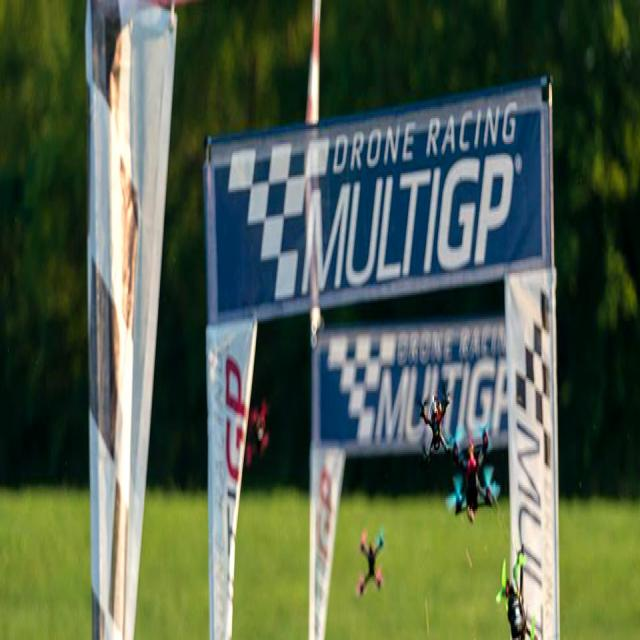drone: (442, 432, 510, 518), (491, 548, 546, 640), (350, 513, 391, 612), (238, 396, 273, 466), (420, 384, 450, 448)
